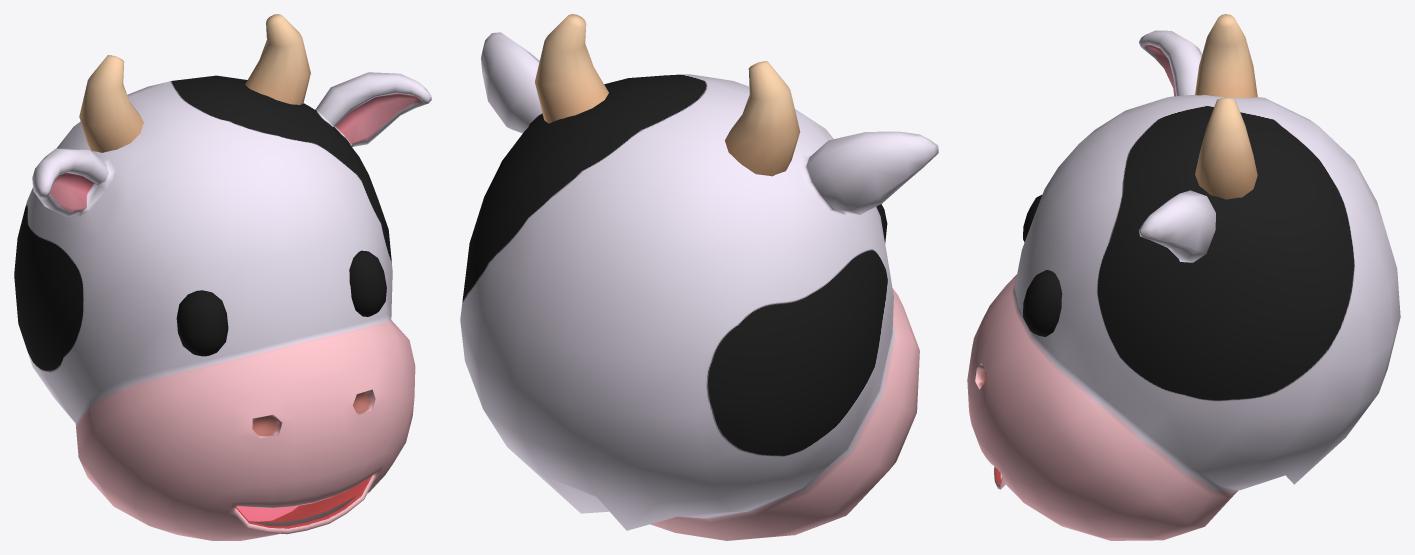
The model's file is cow.glb.
The picture shows the model from 3 angles, left to right: view 1: azimuth 30°, elevation 25°; view 2: azimuth 150°, elevation 25°; view 3: azimuth 270°, elevation 25°; orthographic projection. The views are drawn at different scales.
Visible parts, largest first — view 1: CowHead_CowHead_01_0, CowHead_CowHead_03_0, CowHead_CowHead_02_0, CowHead_CowHead_04_0, CowHead_CowHead_02_0.001; view 2: CowHead_CowHead_01_0, CowHead_CowHead_03_0; view 3: CowHead_CowHead_01_0, CowHead_CowHead_03_0, CowHead_CowHead_02_0.001.
Part boxes in pixels (bbox=[...]): CowHead_CowHead_01_0: bbox=[14, 72, 431, 540]; CowHead_CowHead_03_0: bbox=[79, 14, 310, 152]; CowHead_CowHead_02_0: bbox=[176, 290, 228, 356]; CowHead_CowHead_04_0: bbox=[235, 475, 372, 528]; CowHead_CowHead_02_0.001: bbox=[349, 250, 386, 316]; CowHead_CowHead_01_0: bbox=[460, 32, 938, 540]; CowHead_CowHead_03_0: bbox=[535, 14, 800, 176]; CowHead_CowHead_01_0: bbox=[967, 30, 1400, 540]; CowHead_CowHead_03_0: bbox=[1195, 14, 1257, 199]; CowHead_CowHead_02_0.001: bbox=[1023, 270, 1062, 336].
Size of the model in its own units: 46.84 by 51.63 by 44.12.
4 materials, 4 textured.
